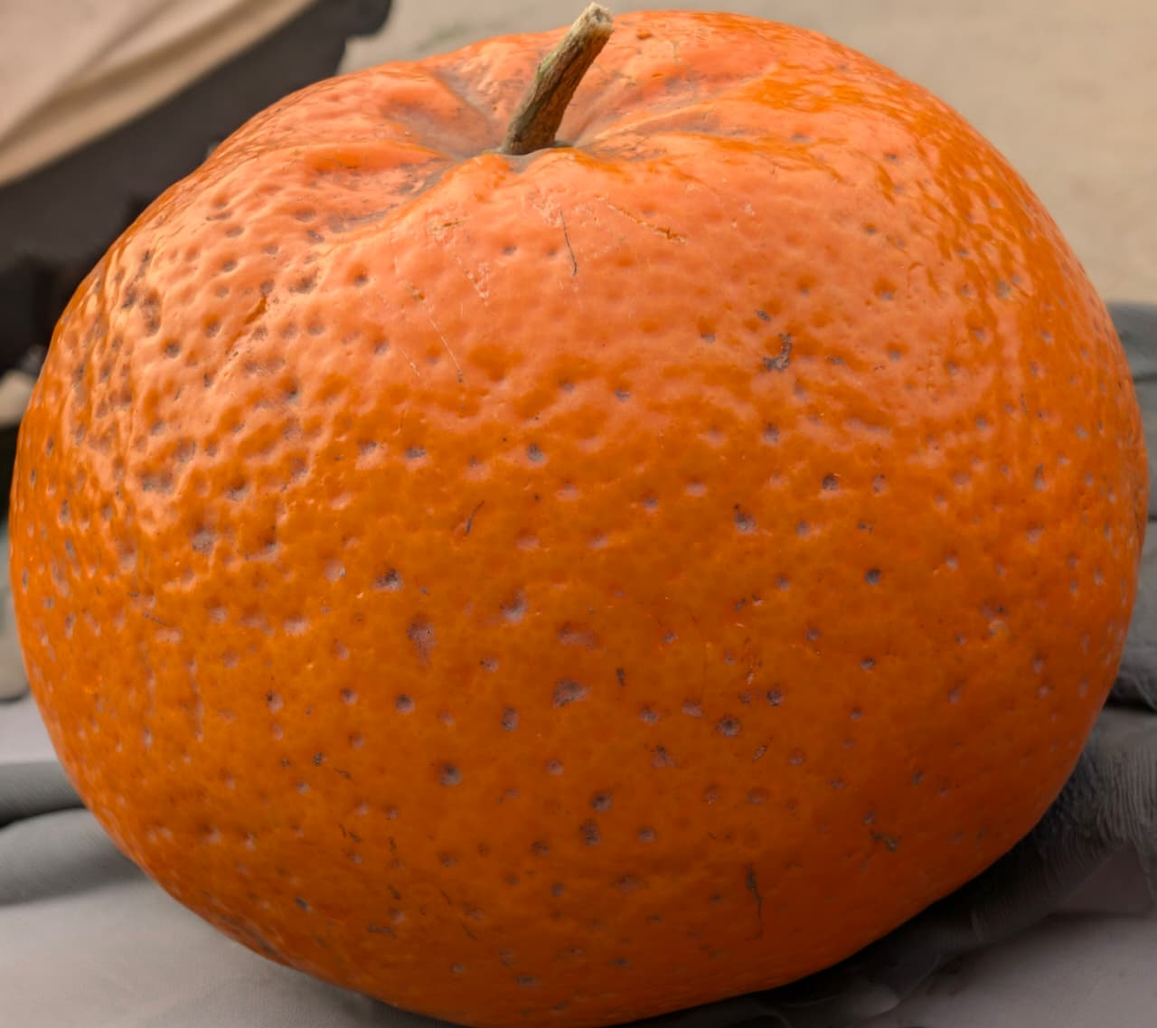orange: (47, 232, 1018, 957)
